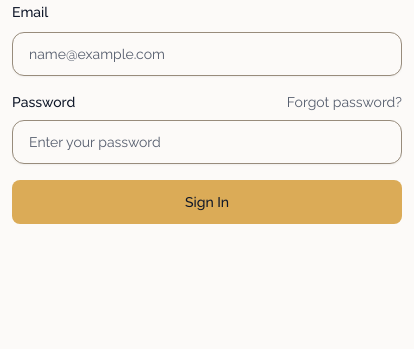
it: LoginForm › shows the rate limit message with the wait
In the field labelled "Email": (207, 54) [12,32,402,76], type "a@b.com"
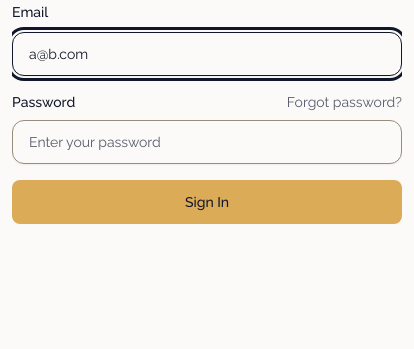
In the password field labelled "Password": (207, 142) [12,120,402,164], type "secret123"
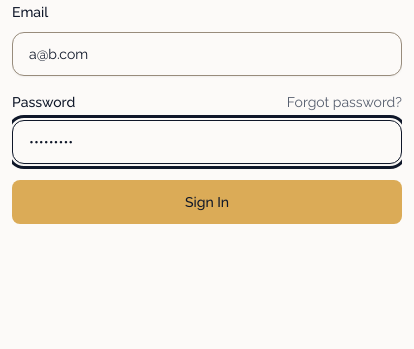
Click the button "Sign In": (207, 202) [12,180,402,224]
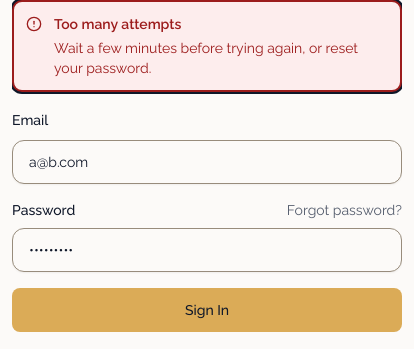
Result: the message shows "Wait a few minutes" at [54,40,358,76]
